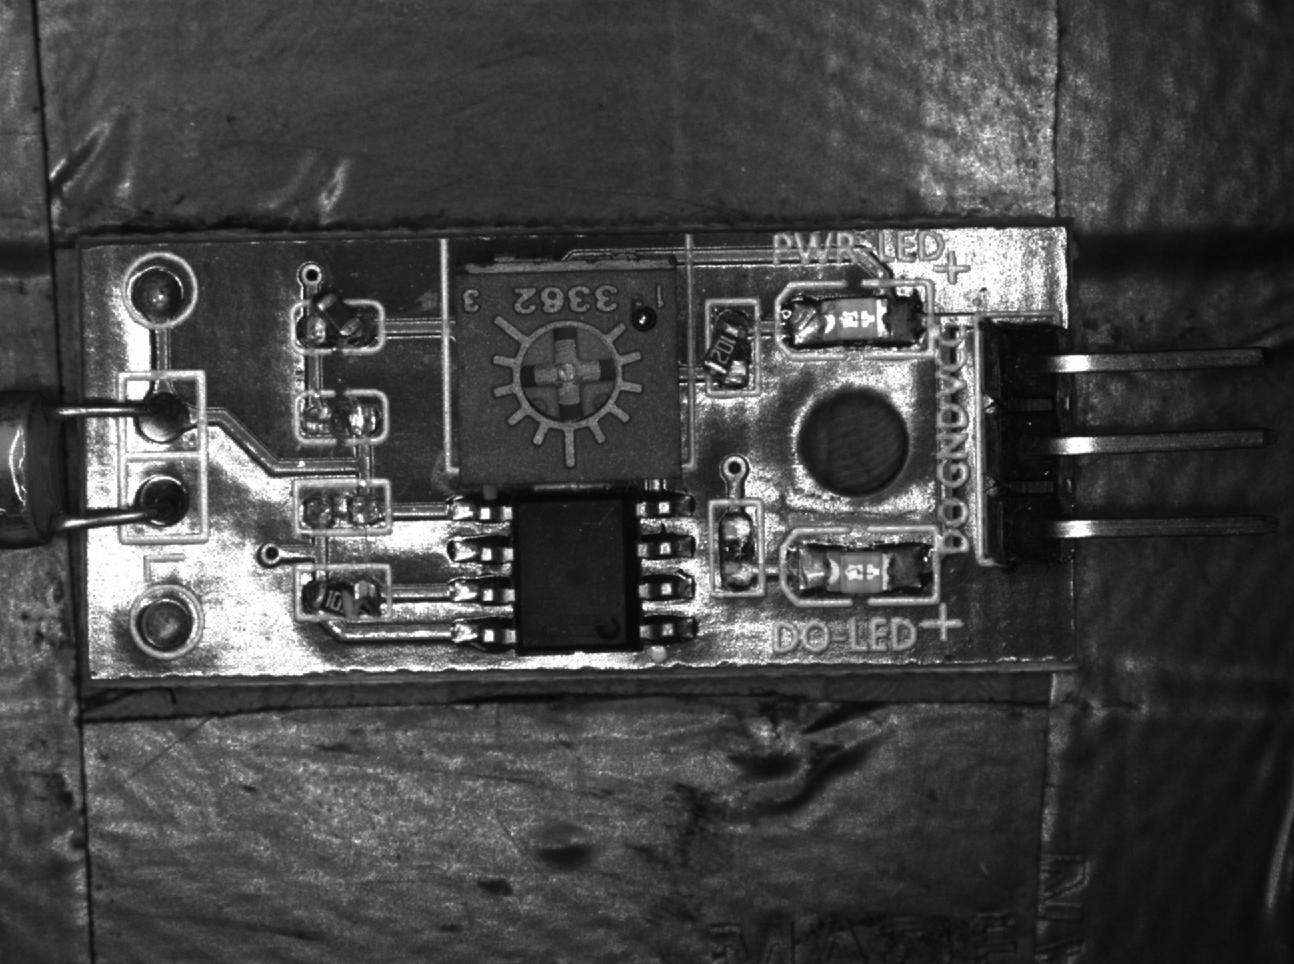bridge: (292, 480, 393, 536), (709, 500, 763, 596), (291, 392, 387, 444)
lifted: (292, 291, 386, 357), (699, 301, 760, 397), (295, 566, 392, 626)
